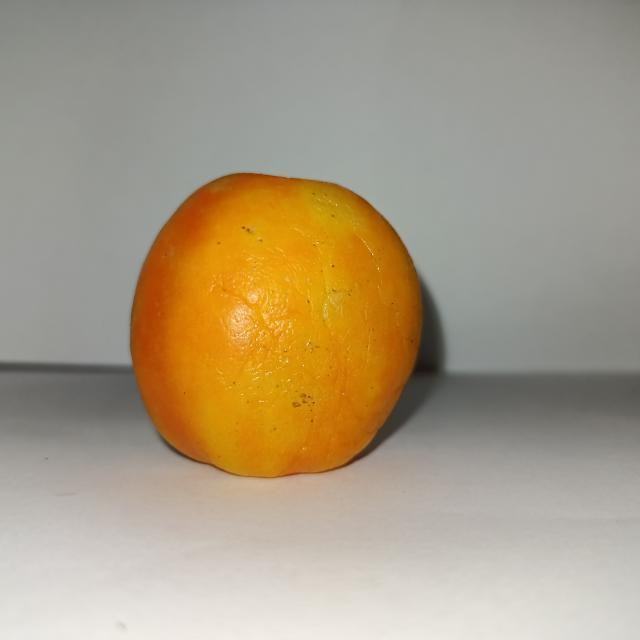Red: (128, 170, 424, 478)
